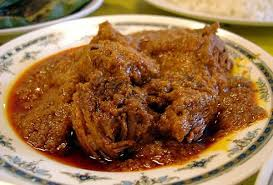rendang: (9, 19, 273, 173)
